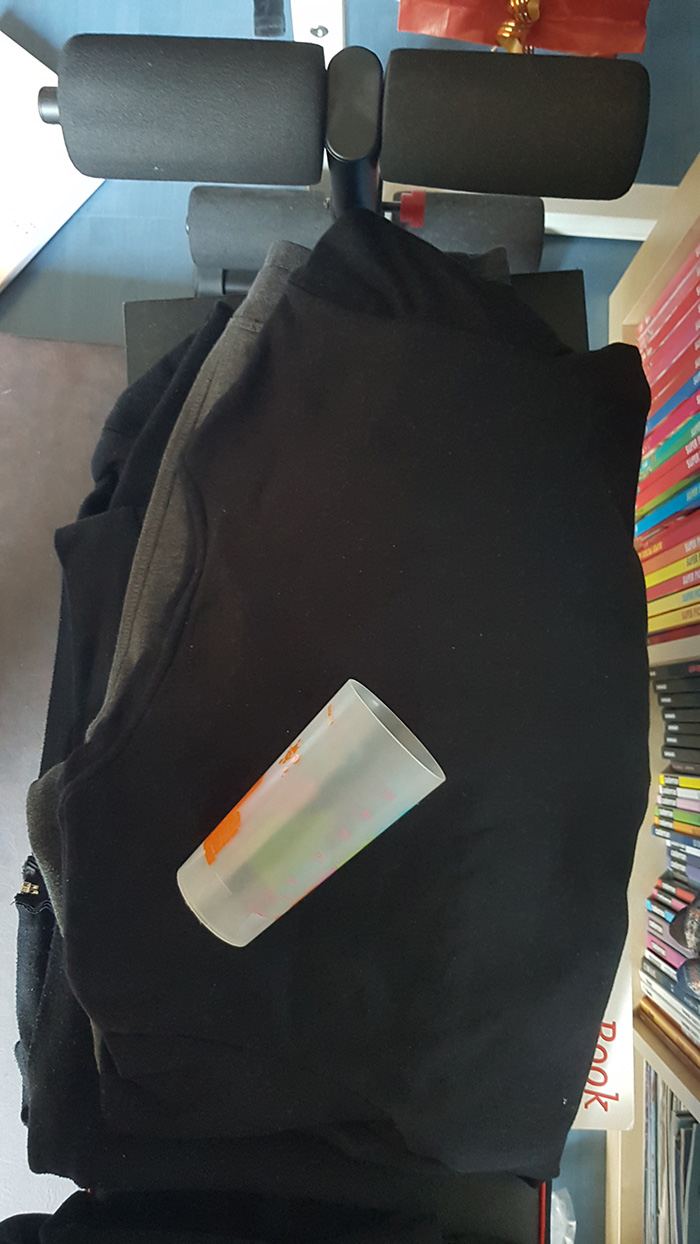ecocup: (174, 679, 448, 947)
